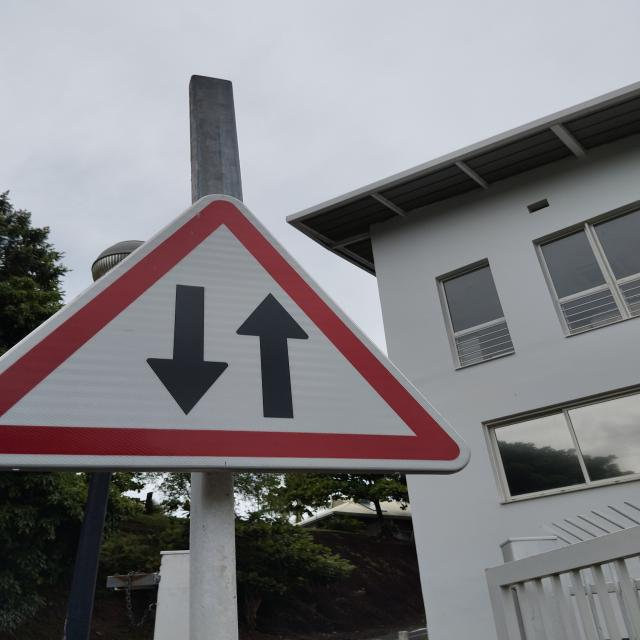Double-Sens: (0, 192, 482, 469)
